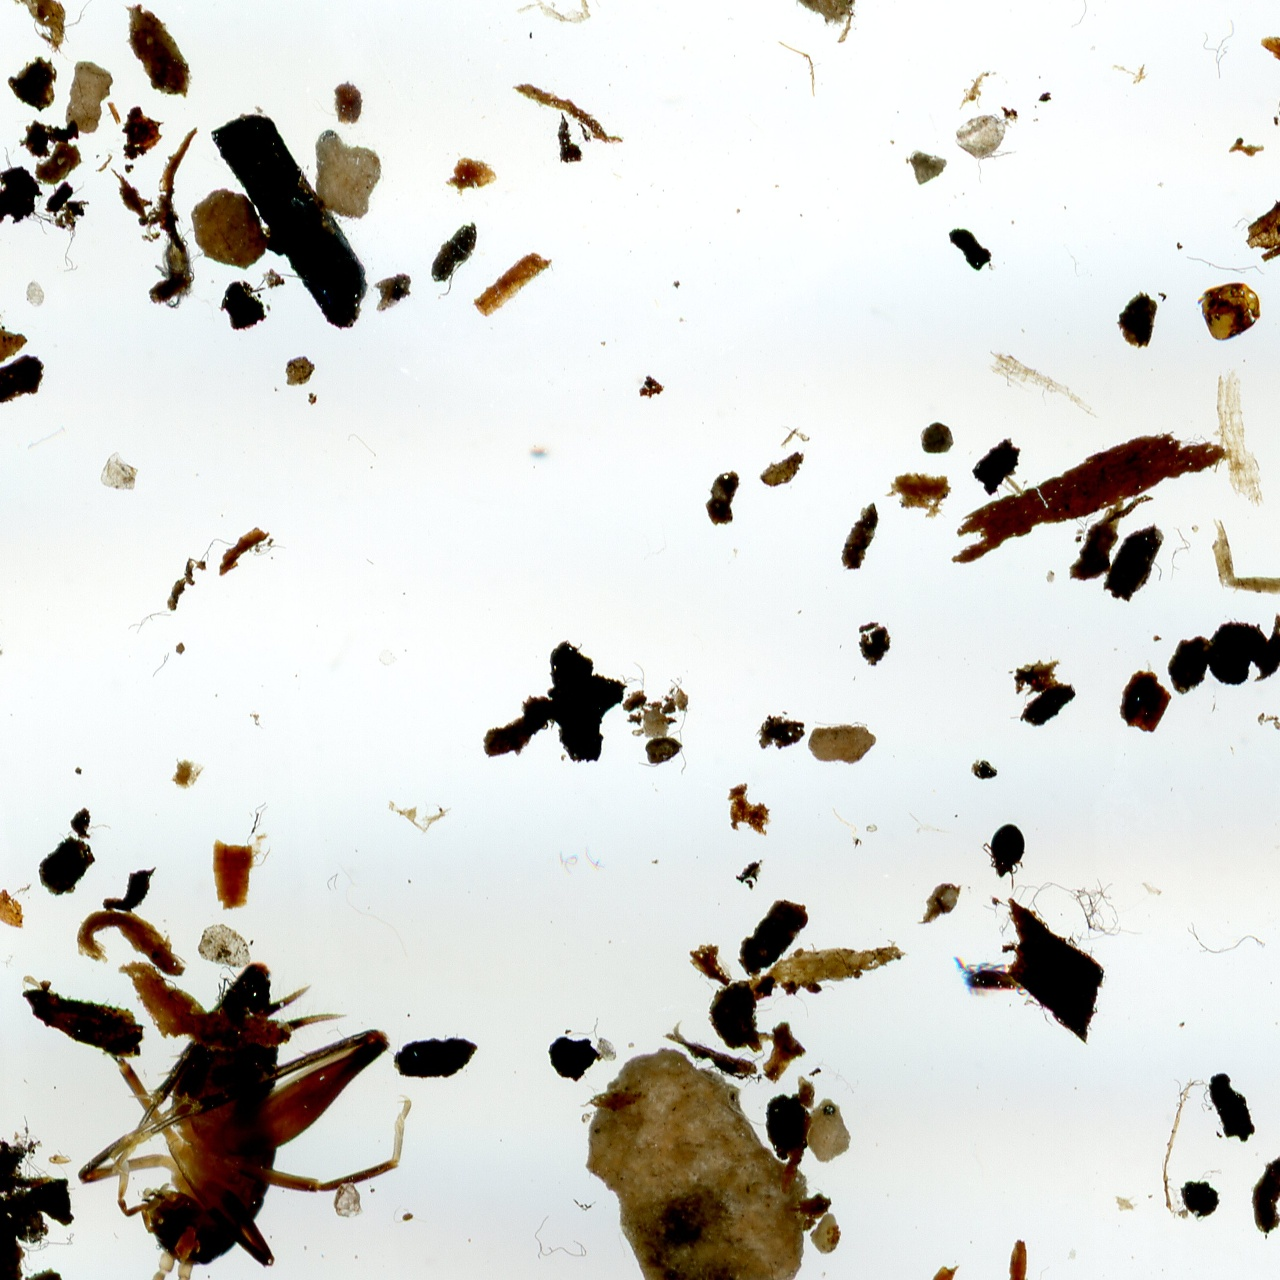arthropod: (0, 856, 496, 1280), (951, 953, 1033, 1003), (978, 819, 1028, 893)
